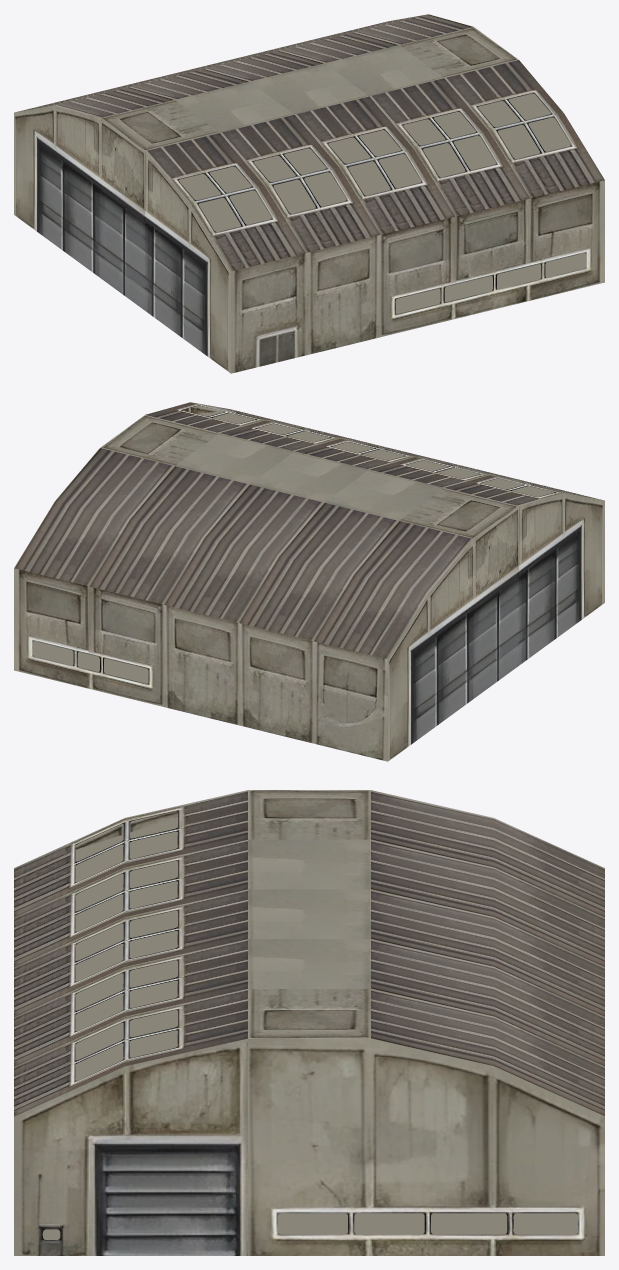
The model's file is hangar_hdtex.glb.
3 renders of one model, top to bottom at view 1: azimuth 30°, elevation 25°; view 2: azimuth 150°, elevation 25°; view 3: azimuth 270°, elevation 25°, orthographic. The views are drawn at different scales.
Parts seen in each view (by area): view 1: Hangar, Litwin_Hangar; view 2: Hangar, Litwin_Hangar; view 3: Hangar, Litwin_Hangar.
Part boxes in pixels (x1,y1,x2,y2): Hangar: [14, 14, 604, 373]; Litwin_Hangar: [179, 93, 586, 313]; Hangar: [14, 402, 604, 761]; Litwin_Hangar: [32, 411, 553, 683]; Hangar: [14, 790, 604, 1255]; Litwin_Hangar: [42, 817, 578, 1239].
Bounding box in the file's own units: 38.2 × 15.58 × 38.4.
1 material, 1 textured.
